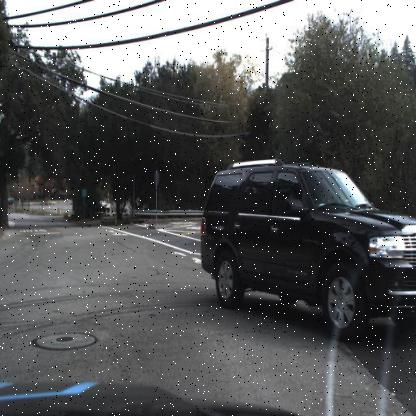car: (198, 153, 414, 339)
